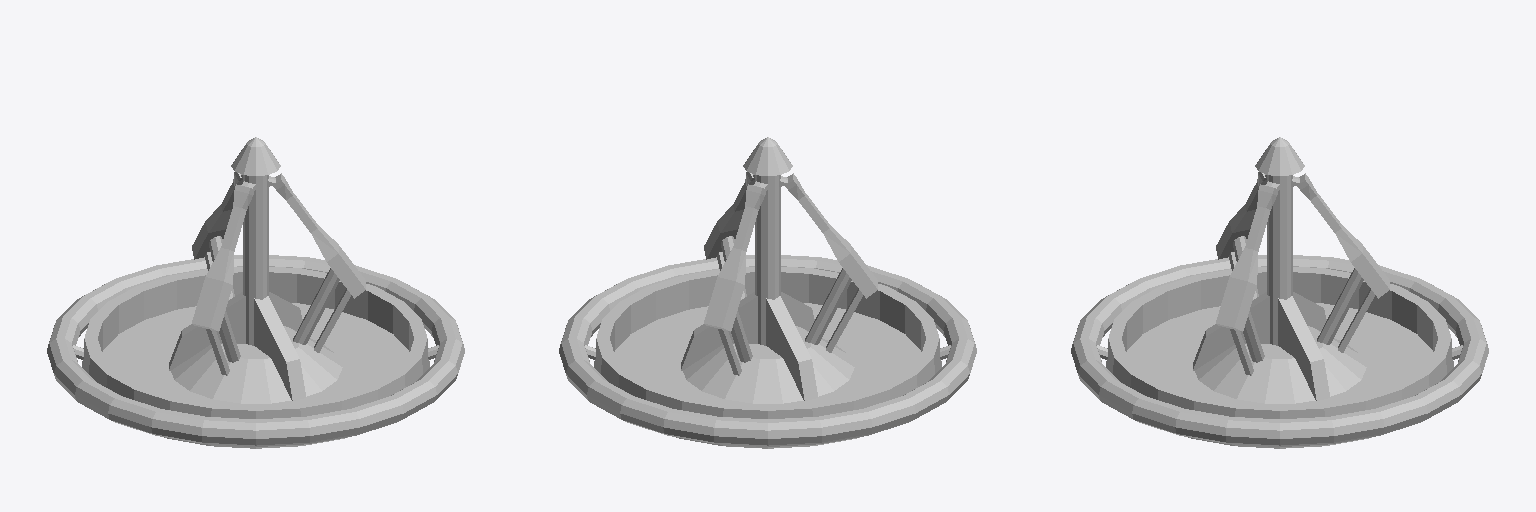
File: Apollo_Docking_ReadyforAp.obj
The picture shows the model from 3 angles: view 1: azimuth 30°, elevation 25°; view 2: azimuth 150°, elevation 25°; view 3: azimuth 270°, elevation 25°; orthographic projection.
Parts seen in each view (by area): view 1: Apollo_Docking_Active8; view 2: Apollo_Docking_Active8; view 3: Apollo_Docking_Active8.
Part boxes in pixels (x1,y1,x2,y2): Apollo_Docking_Active8: (47,137,464,448); Apollo_Docking_Active8: (559,137,976,448); Apollo_Docking_Active8: (1071,137,1488,448).
Bounding box in the file's own units: 75 × 47.04 × 75.